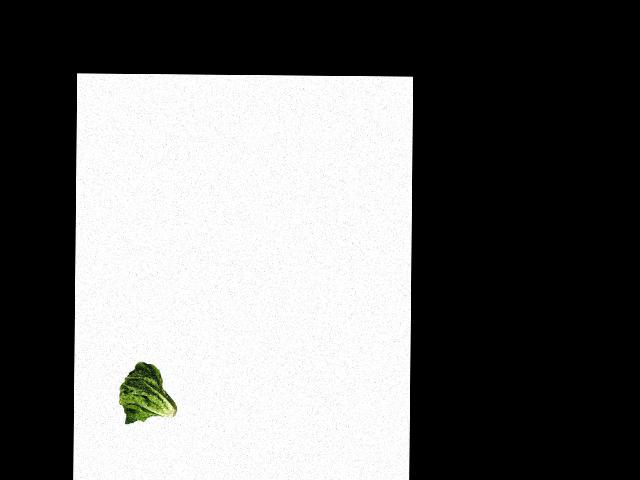lettuce: (116, 360, 180, 426)
